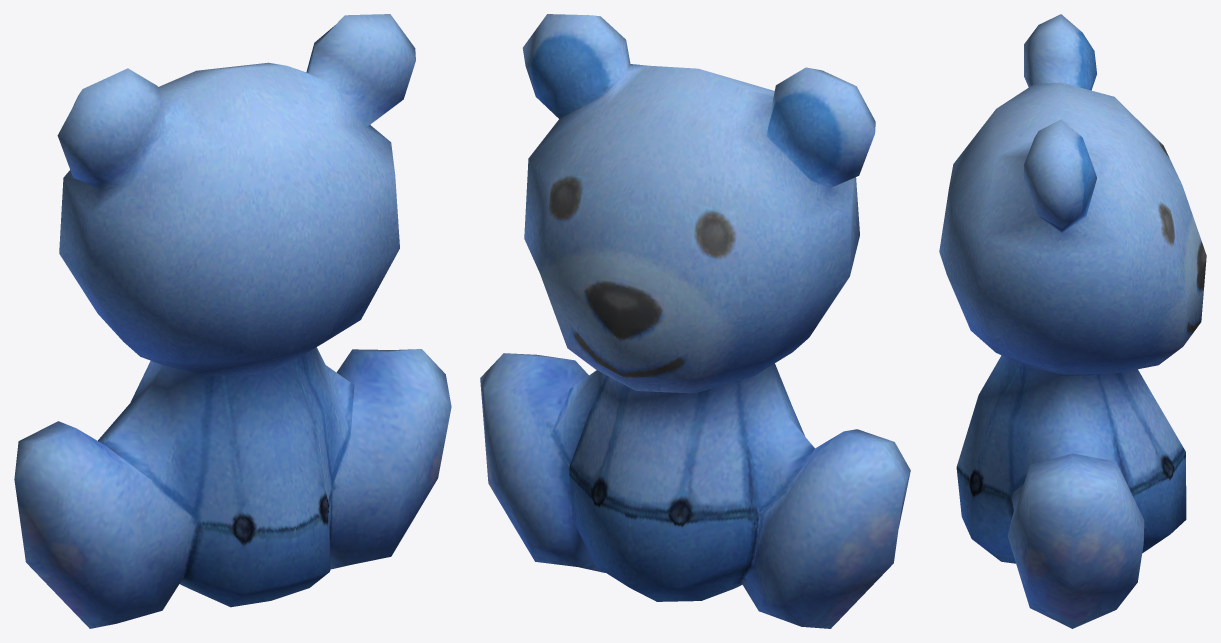
The model's file is furni_0200146_03.FBX.
3 views of the same model, side by side, from view 1: azimuth 30°, elevation 25°; view 2: azimuth 150°, elevation 25°; view 3: azimuth 270°, elevation 25° (orthographic). The views are drawn at different scales.
Parts seen in each view (by area): view 1: furni_0200146_03; view 2: furni_0200146_03; view 3: furni_0200146_03.
Part boxes in pixels (box(x1,y1,x2,y2)): furni_0200146_03: box(14, 14, 451, 628); furni_0200146_03: box(480, 14, 910, 628); furni_0200146_03: box(939, 14, 1206, 628).
Size of the model in its own units: 46.51 by 57.44 by 28.07.
